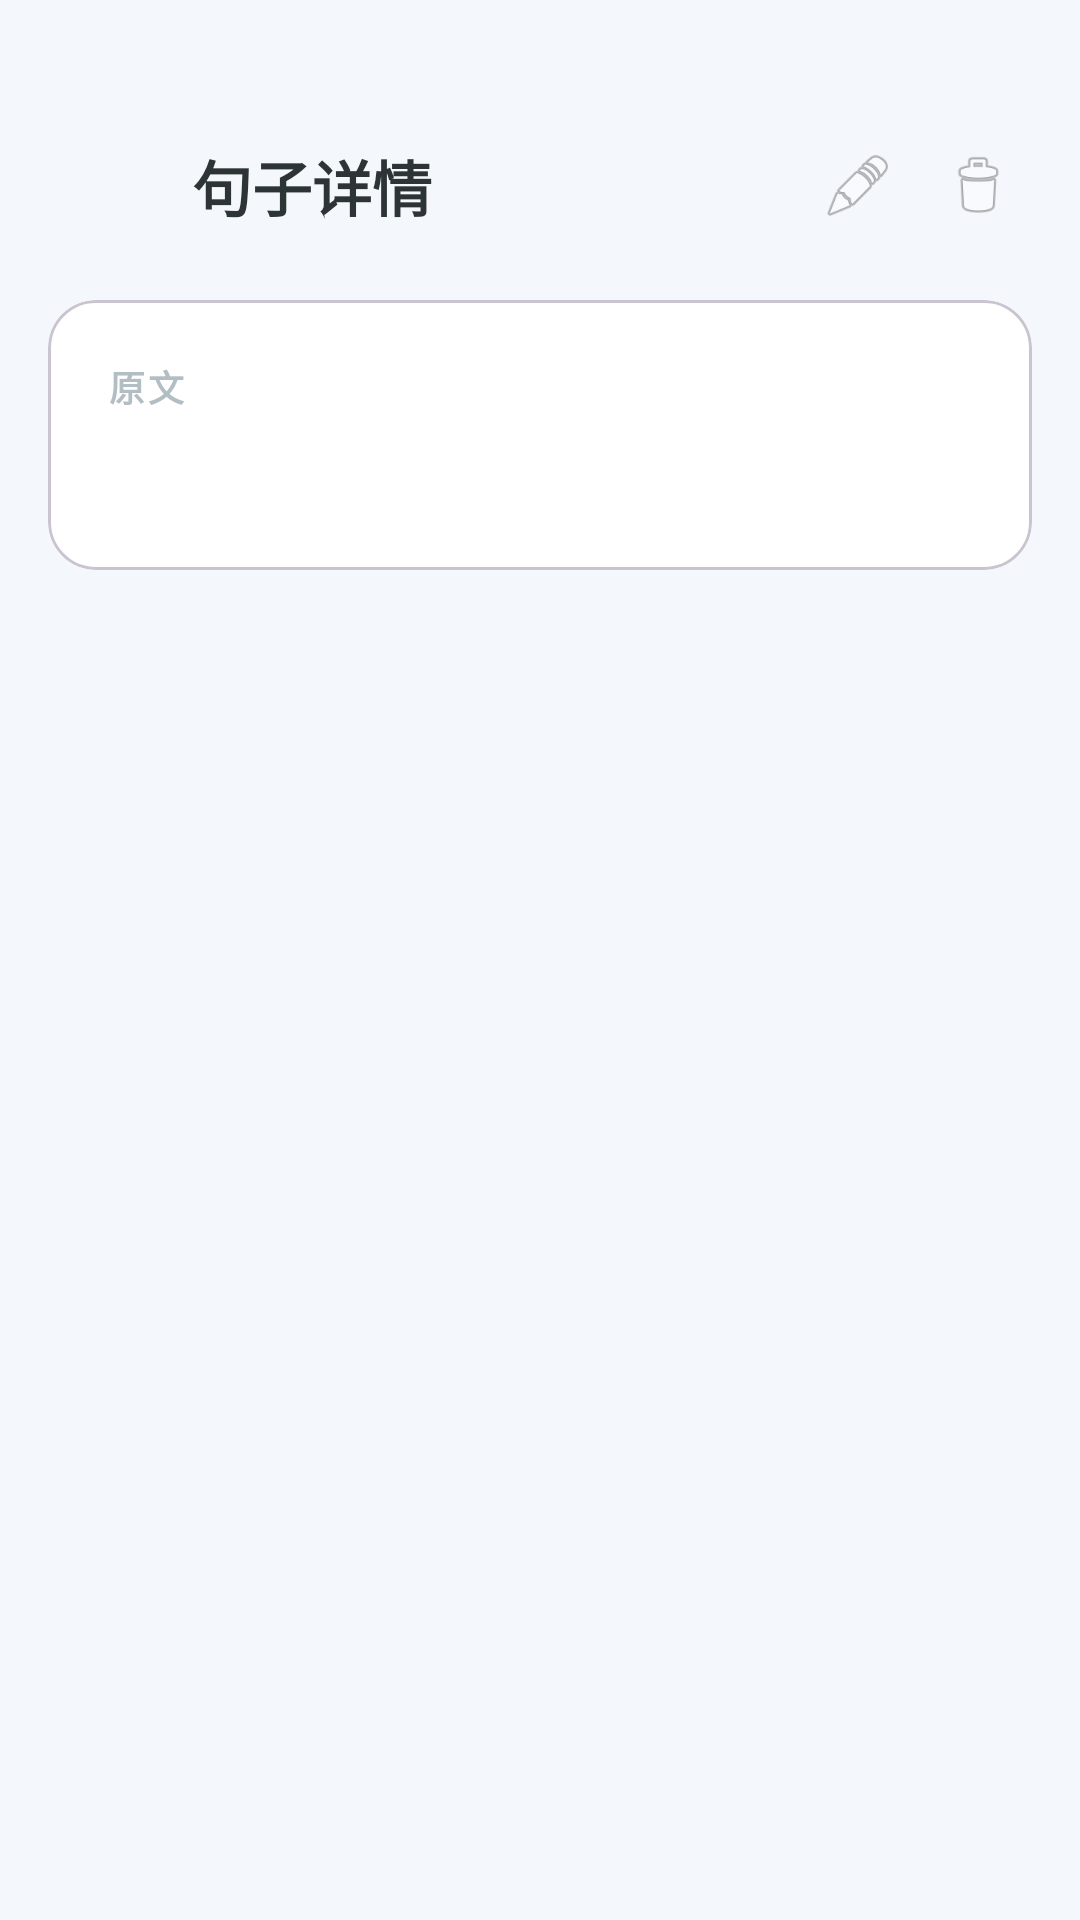

Where icons sit on this 1080px×1920px app screen, as (x1, y1, x2, y2):
删除: (958, 157, 999, 213)
编辑: (827, 155, 888, 216)
